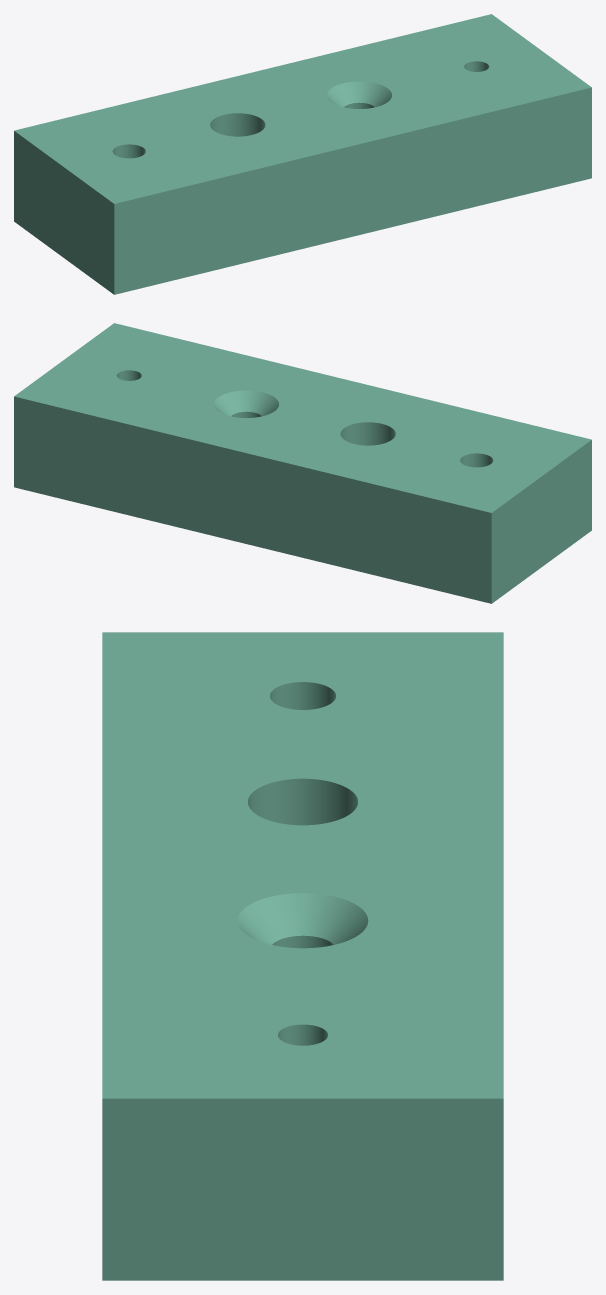
Rendered from hole_features.glb.
The picture shows the model from 3 angles, top to bottom: view 1: azimuth 30°, elevation 25°; view 2: azimuth 150°, elevation 25°; view 3: azimuth 270°, elevation 25°; orthographic projection. The views are drawn at different scales.
Parts seen in each view (by area): view 1: hole features block; view 2: hole features block; view 3: hole features block.
Boxes of the visible parts, x1,y1,x2,y2 form: hole features block: (14, 14, 591, 294); hole features block: (14, 323, 591, 603); hole features block: (102, 632, 503, 1280).
Bounding box in the file's own units: 110 × 20 × 40.
